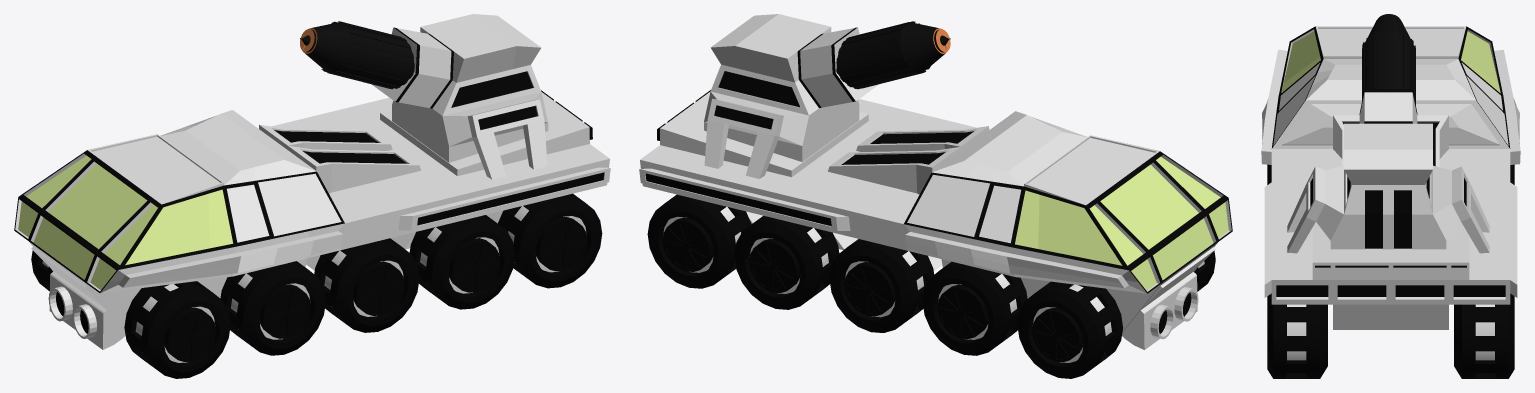
File: MortarMissile.fbx
3 renders of one model, left to right at view 1: azimuth 30°, elevation 25°; view 2: azimuth 150°, elevation 25°; view 3: azimuth 270°, elevation 25°, orthographic.
Visible parts, largest first — view 1: Cabine, Cube, Wheeels.003, Wheeels.004, Wheeels.002, Wheeels.001, Wheeels.005, Missile; view 2: Cabine, Cube, Wheeels.003, Wheeels.004, Wheeels.002, Wheeels.001, Wheeels.005, Missile; view 3: Cabine, Cube, Wheeels.005, Missile.
Part boxes in pixels (box(x1,y1,x2,y2)): Cabine: box(14, 90, 610, 349); Cube: box(372, 14, 548, 179); Wheeels.003: box(31, 250, 230, 378); Wheeels.004: box(409, 215, 514, 309); Wheeels.002: box(220, 261, 325, 355); Wheeels.001: box(314, 238, 419, 332); Wheeels.005: box(498, 193, 602, 288); Missile: box(300, 21, 414, 89); Cabine: box(639, 90, 1232, 349); Cube: box(704, 14, 878, 178); Wheeels.003: box(1017, 251, 1215, 378); Wheeels.004: box(734, 215, 839, 309); Wheeels.002: box(922, 261, 1027, 355); Wheeels.001: box(829, 239, 934, 332); Wheeels.005: box(647, 194, 751, 288); Missile: box(836, 21, 950, 89); Cabine: box(1261, 26, 1520, 329); Cube: box(1287, 89, 1489, 253); Wheeels.005: box(1267, 293, 1514, 378); Missile: box(1362, 14, 1415, 105).
Bounding box in the file's own units: 1006 × 507 × 448.
